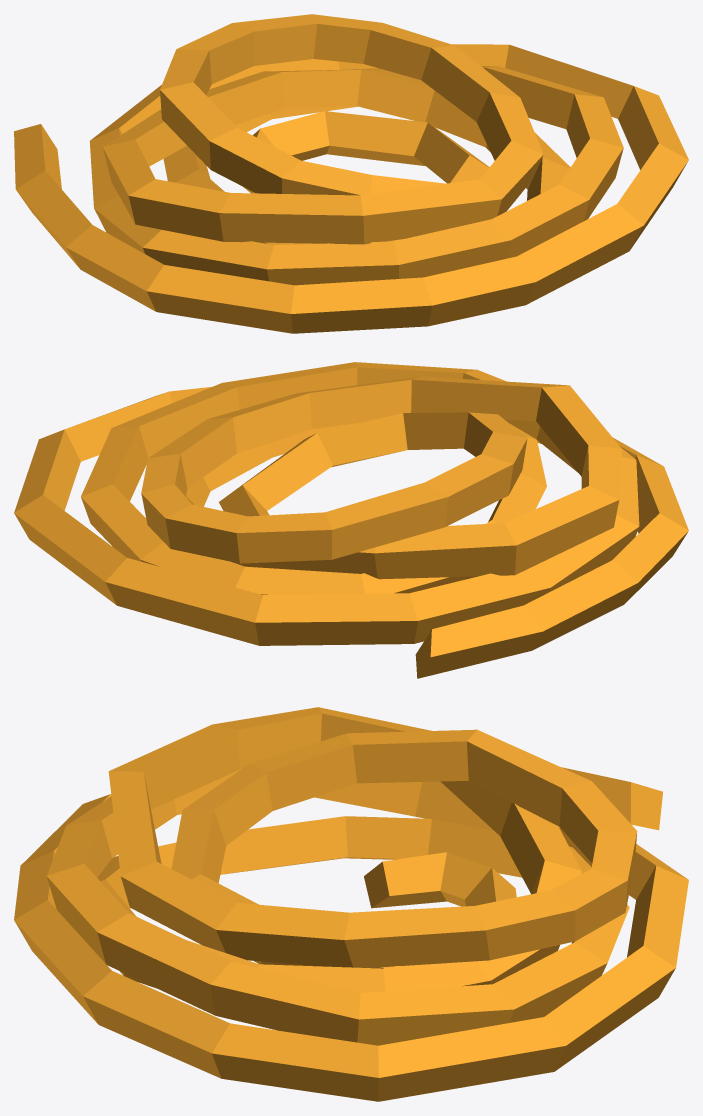
The model's file is SM_Rope_Floor_A.fbx.
3 views of the same model, one above another, from view 1: azimuth 30°, elevation 25°; view 2: azimuth 150°, elevation 25°; view 3: azimuth 270°, elevation 25° (orthographic). The views are drawn at different scales.
Parts seen in each view (by area): view 1: rope-floor-a; view 2: rope-floor-a; view 3: rope-floor-a.
Part boxes in pixels (x1,y1,x2,y2): rope-floor-a: (14, 14, 688, 333); rope-floor-a: (14, 362, 688, 678); rope-floor-a: (14, 707, 688, 1101).
Size of the model in its own units: 0.4064 by 0.0762 by 0.3506.
